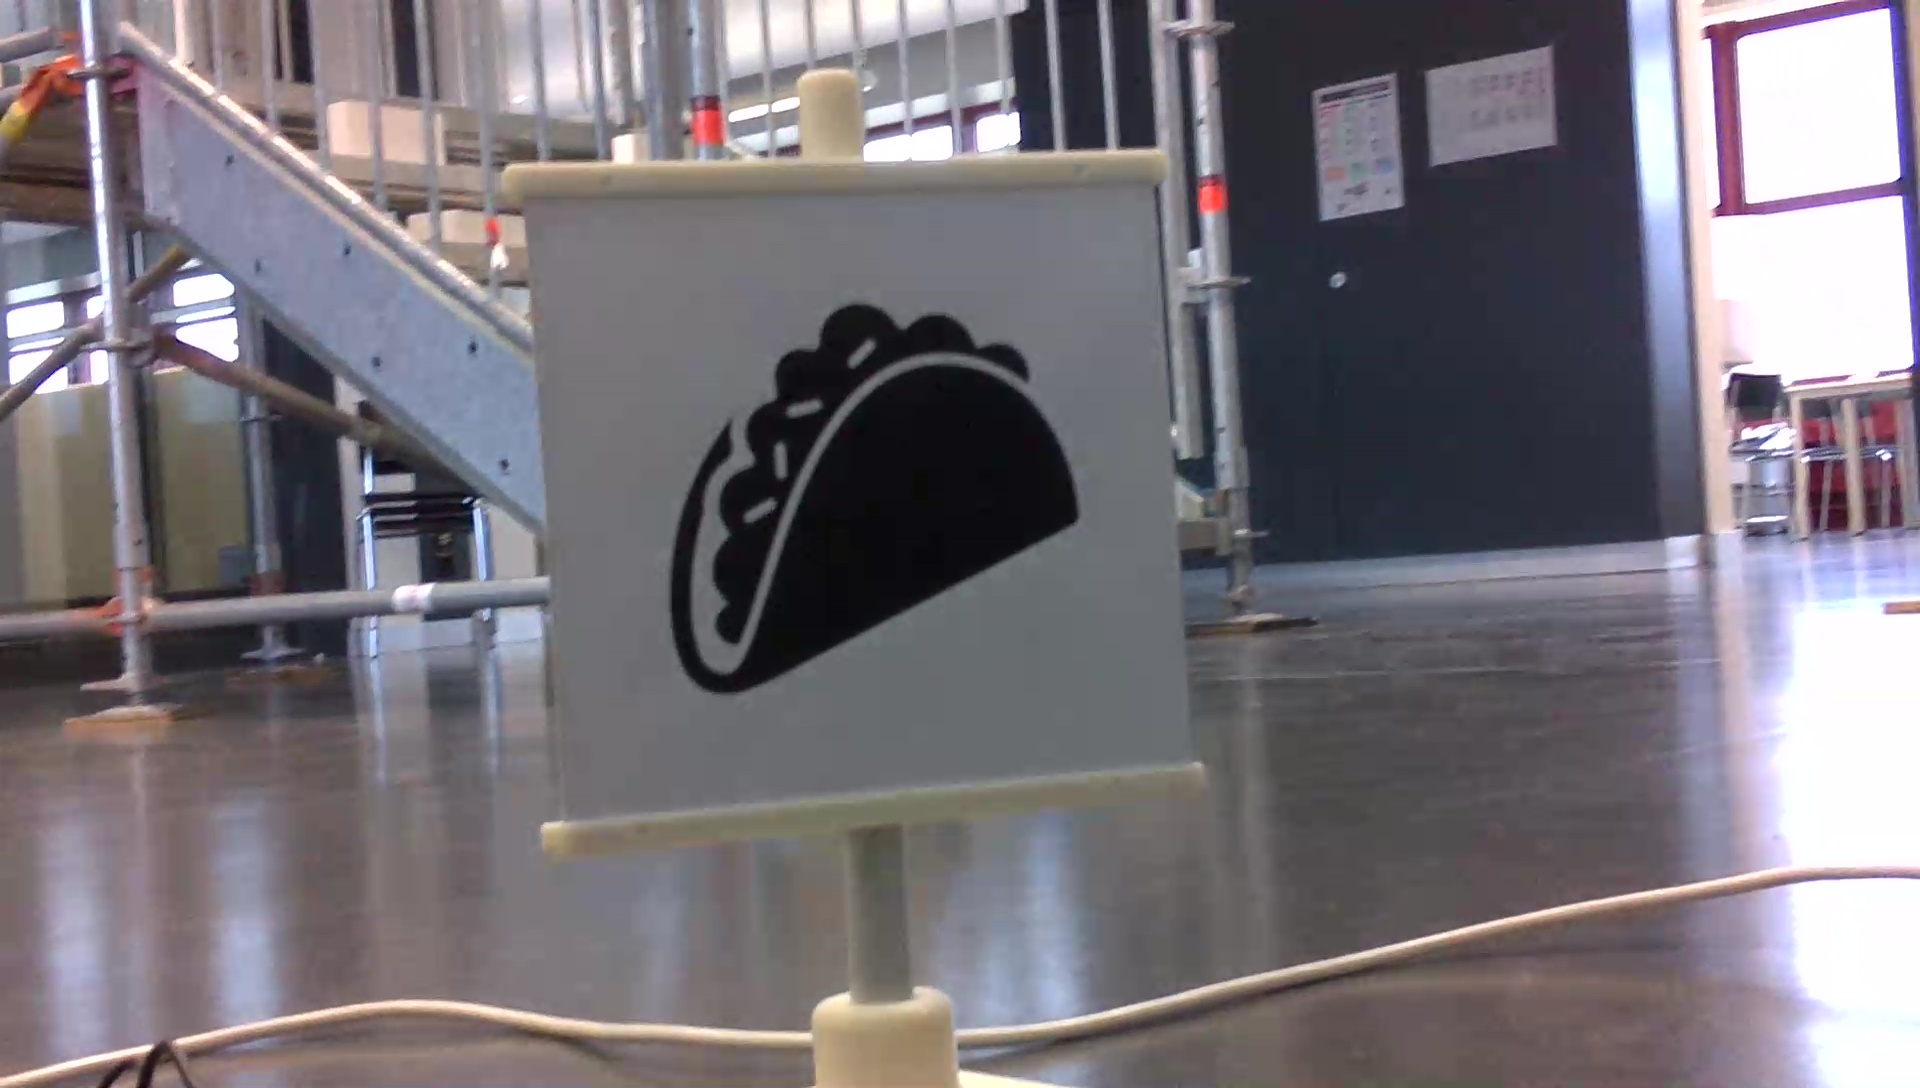taco: (659, 290, 1092, 702)
